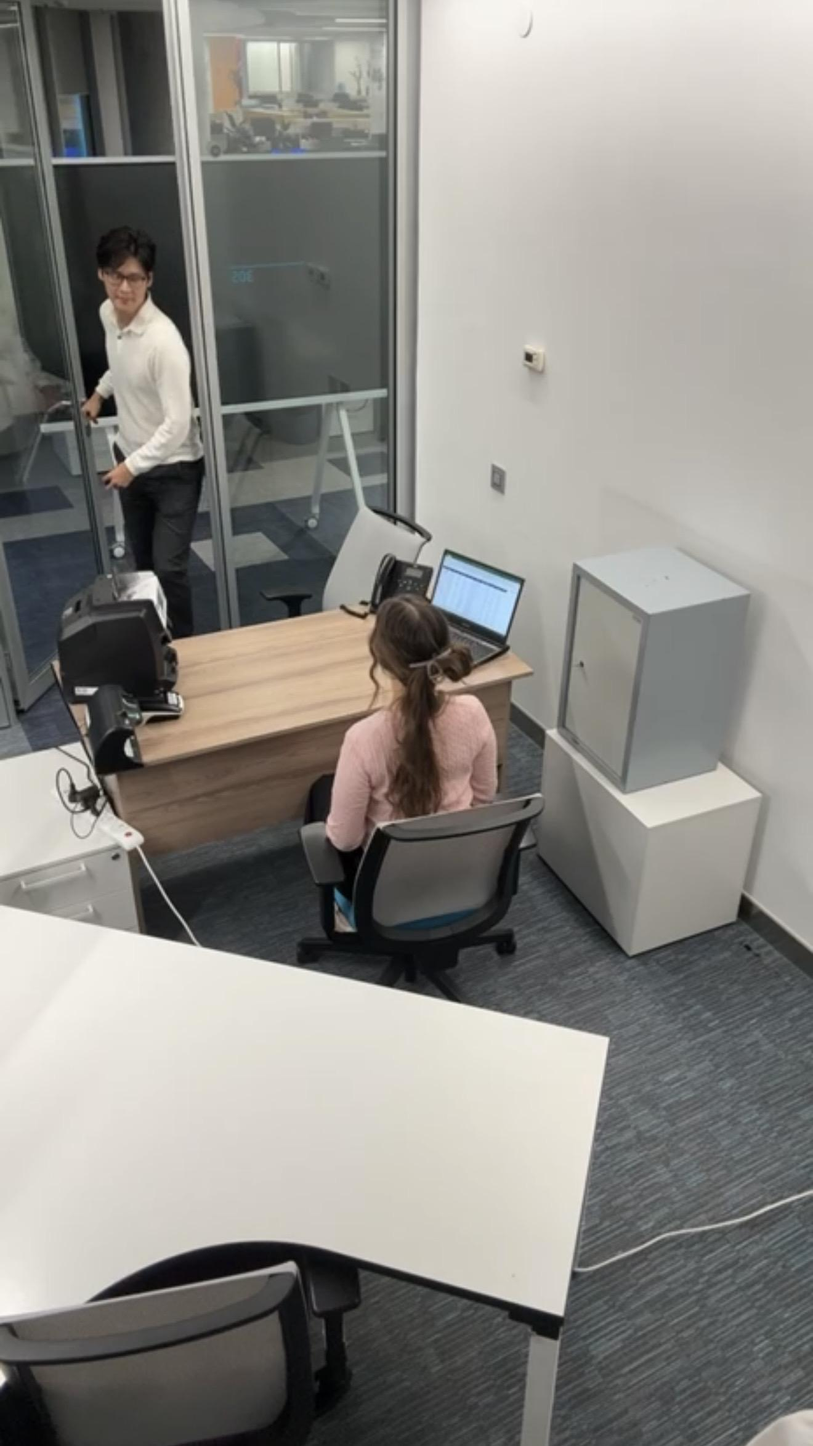counter: (47, 579, 185, 688)
door_open: (6, 4, 220, 489)
key_in: (567, 651, 610, 686)
screen_on: (421, 548, 519, 649)
uv_lamp: (80, 670, 146, 778)
